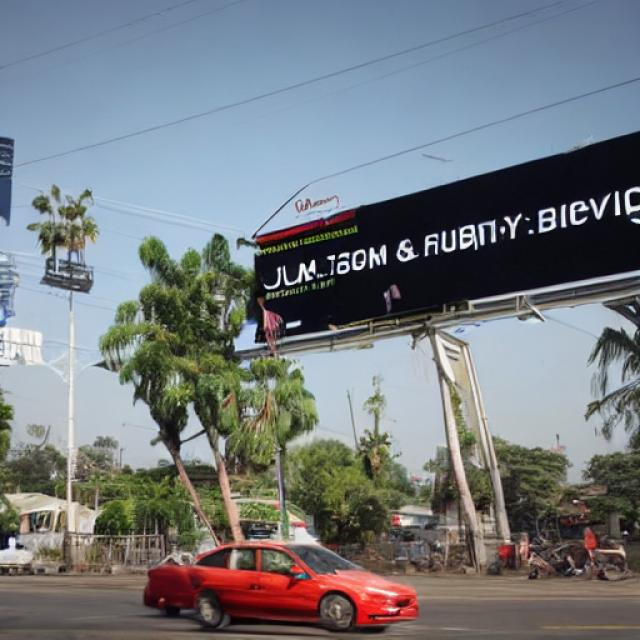Billboard: (247, 130, 640, 354)
